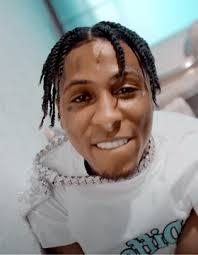quandale-dingle: (58, 33, 155, 175)
